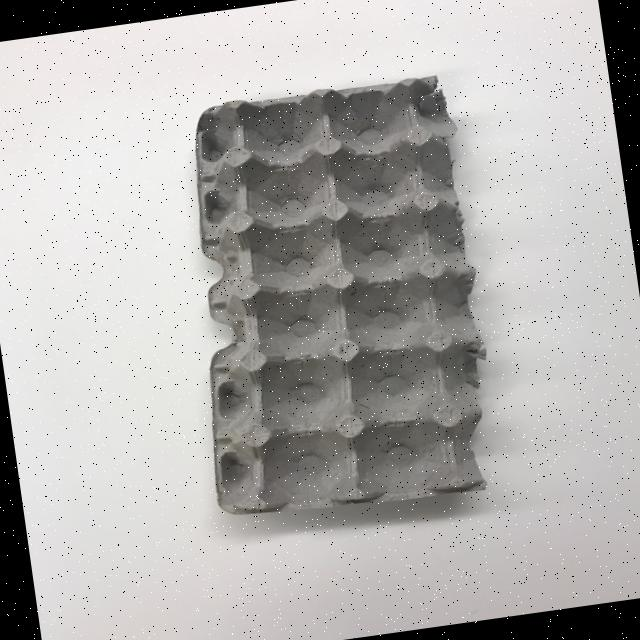paper: (0, 0, 640, 640), (162, 69, 509, 527)
